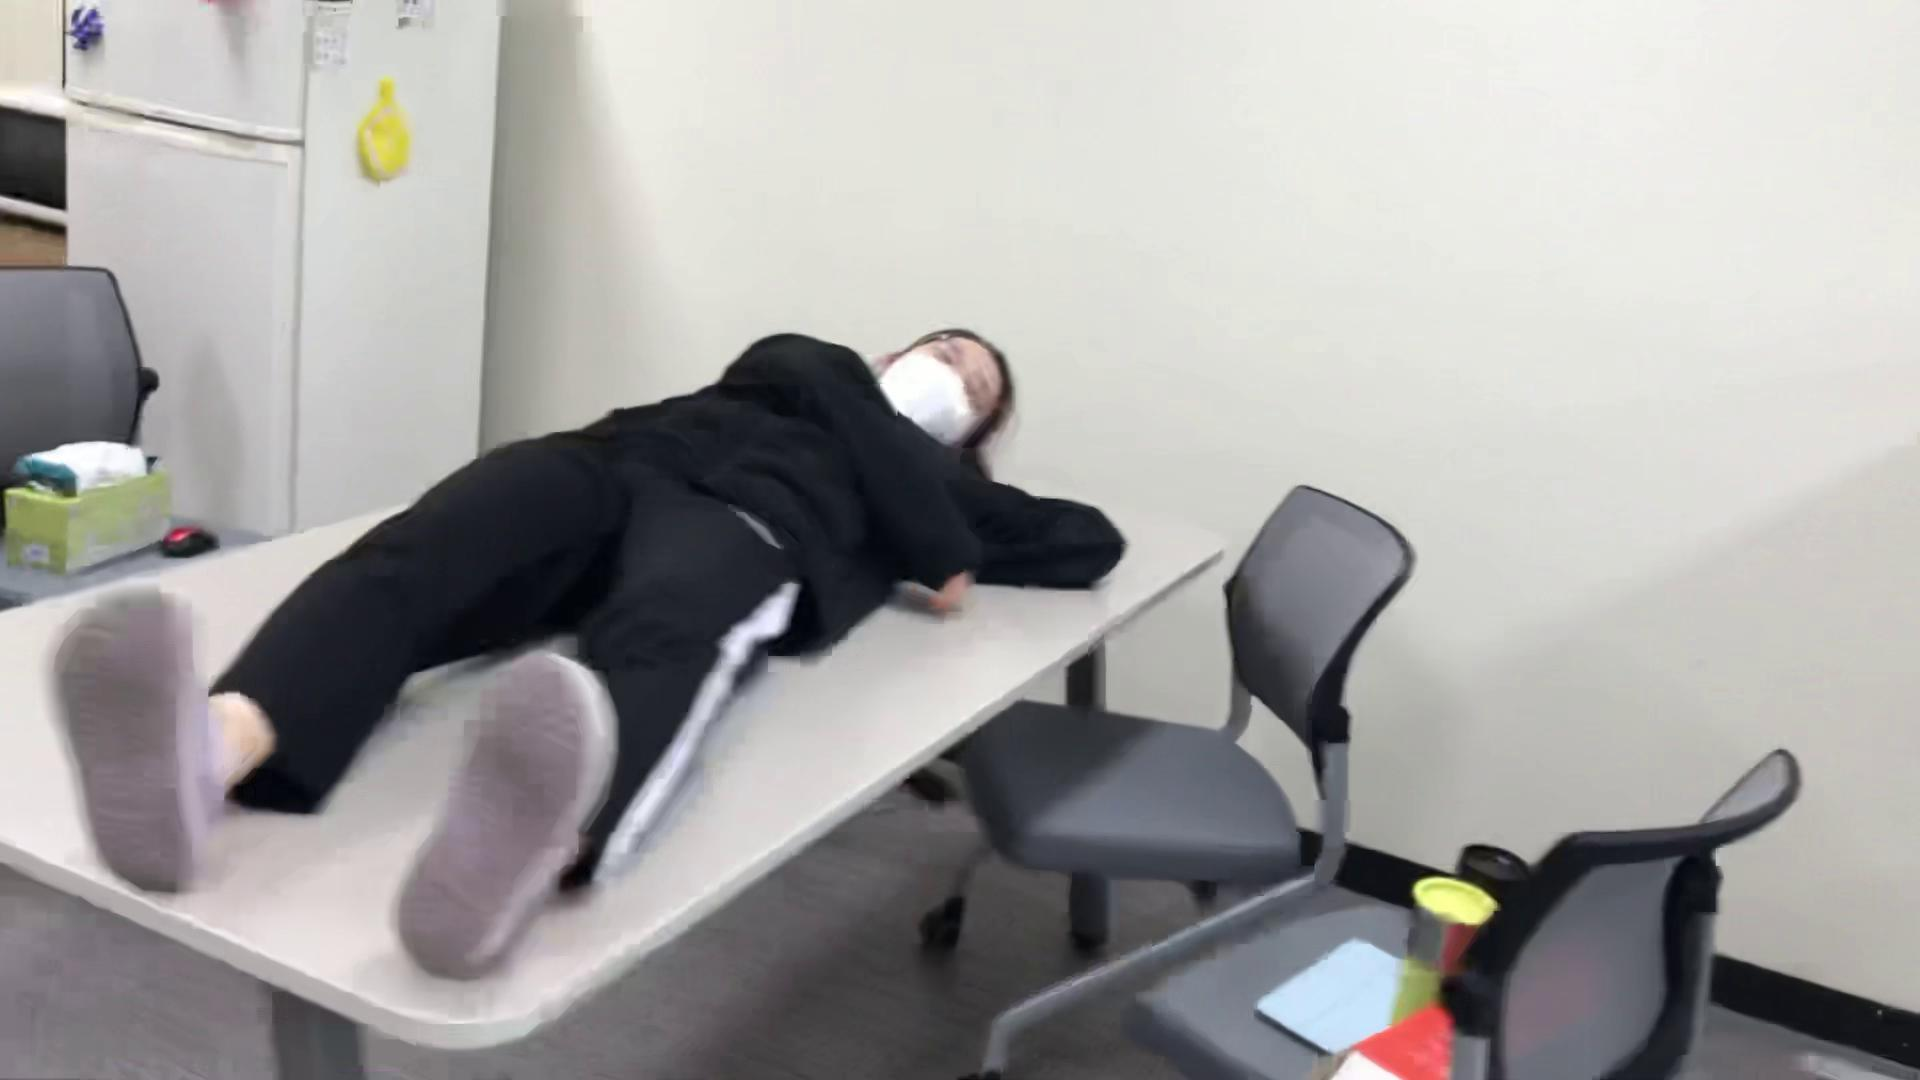sleep: (44, 309, 1118, 976)
